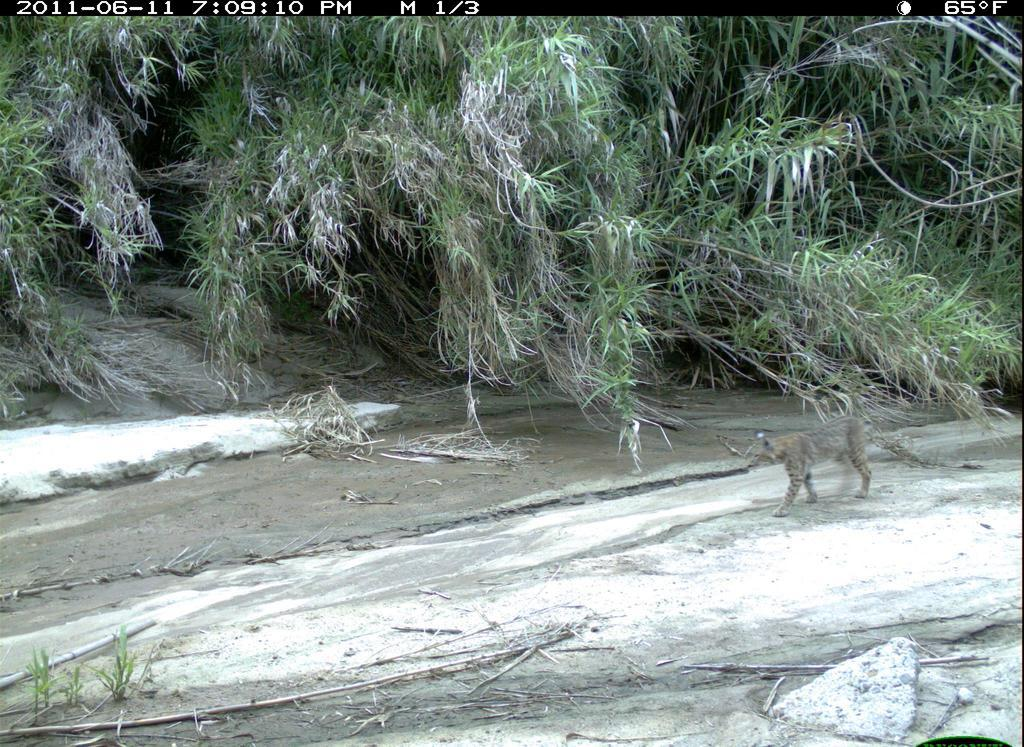bobcat: (731, 401, 889, 529)
